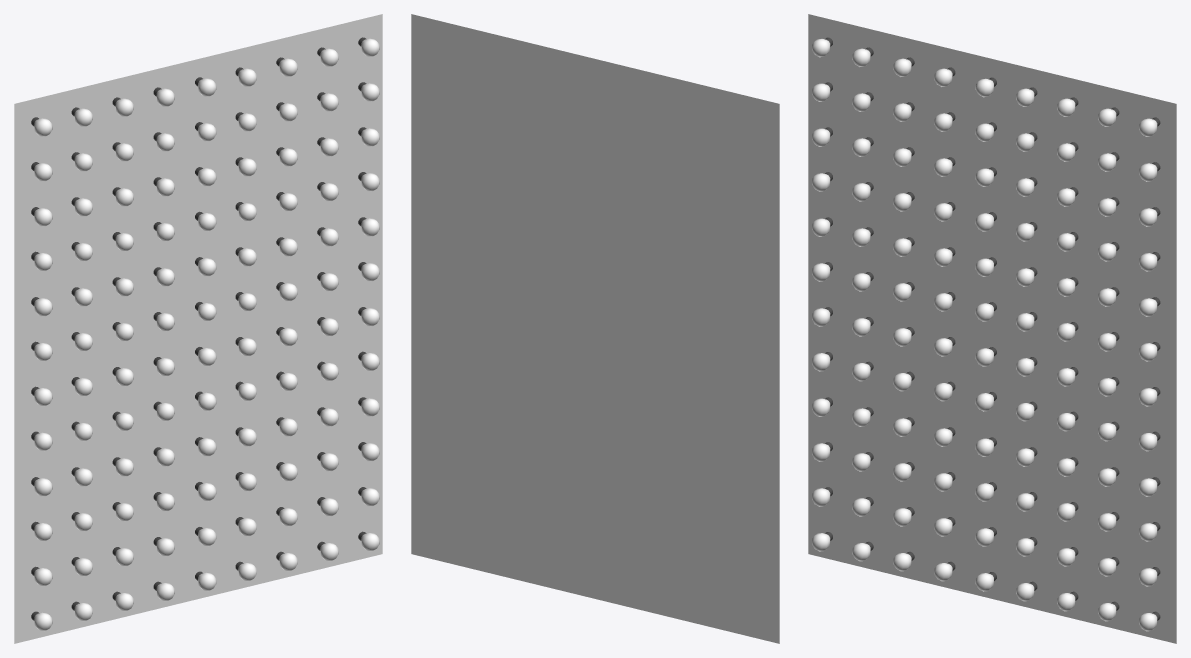
Rendered from PanelLight03.FBX.
3 views of the same model, side by side, from view 1: azimuth 30°, elevation 25°; view 2: azimuth 150°, elevation 25°; view 3: azimuth 330°, elevation 25° (orthographic).
Parts seen in each view (by area): view 1: PanelLight03; view 2: PanelLight03; view 3: PanelLight03.
Boxes of the visible parts, x1=… form: PanelLight03: x1=14, y1=14, x2=382, y2=643; PanelLight03: x1=411, y1=14, x2=779, y2=643; PanelLight03: x1=808, y1=14, x2=1176, y2=643.
Bounding box in the file's own units: 250 × 350 × 15.12.
